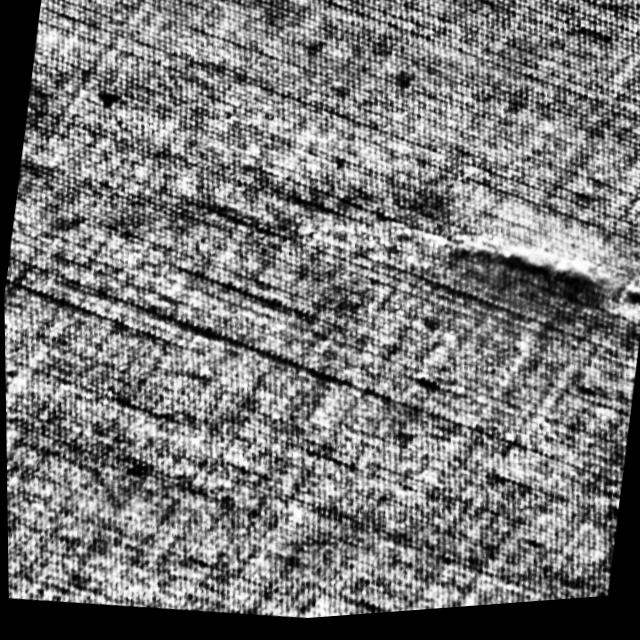Stitch: (402, 219, 640, 337)
